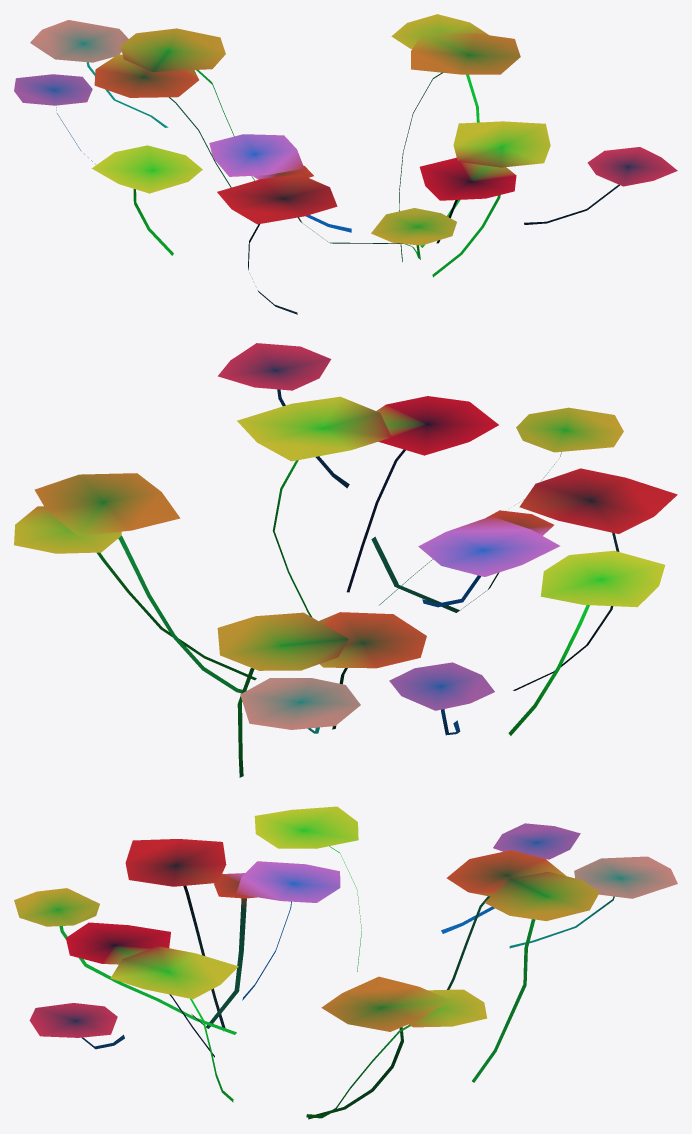
Rendered from Rembrandt_Water_Lily_uc2kajgia_High_uc2kajgia_VarD_LOD1.fbx.
The picture shows the model from 3 angles, top to bottom: view 1: azimuth 30°, elevation 25°; view 2: azimuth 150°, elevation 25°; view 3: azimuth 270°, elevation 25°; orthographic projection. The views are drawn at different scales.
Visible parts, largest first — view 1: _8251_VarD_LOD2; view 2: _8251_VarD_LOD2; view 3: _8251_VarD_LOD2.
Part boxes in pixels (x1,y1,x2,y2): _8251_VarD_LOD2: (14,14,677,314); _8251_VarD_LOD2: (14,343,677,777); _8251_VarD_LOD2: (14,806,677,1119).
Bounding box in the file's own units: 130 × 44.13 × 161.
